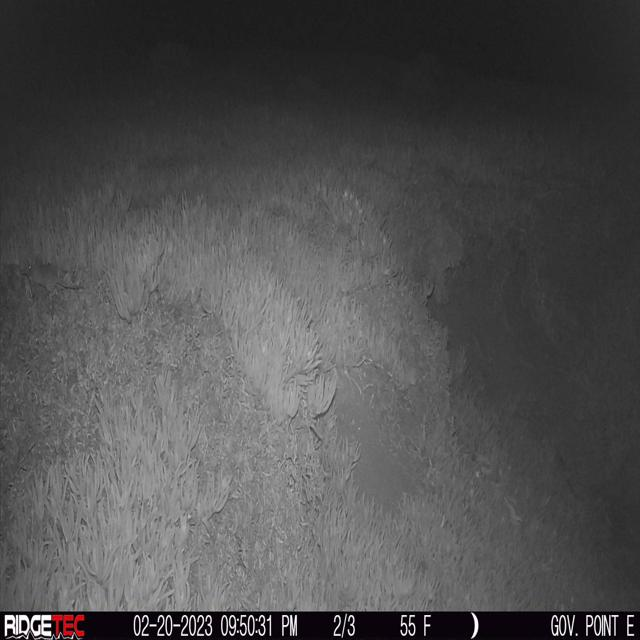rodent: (23, 257, 84, 293)
